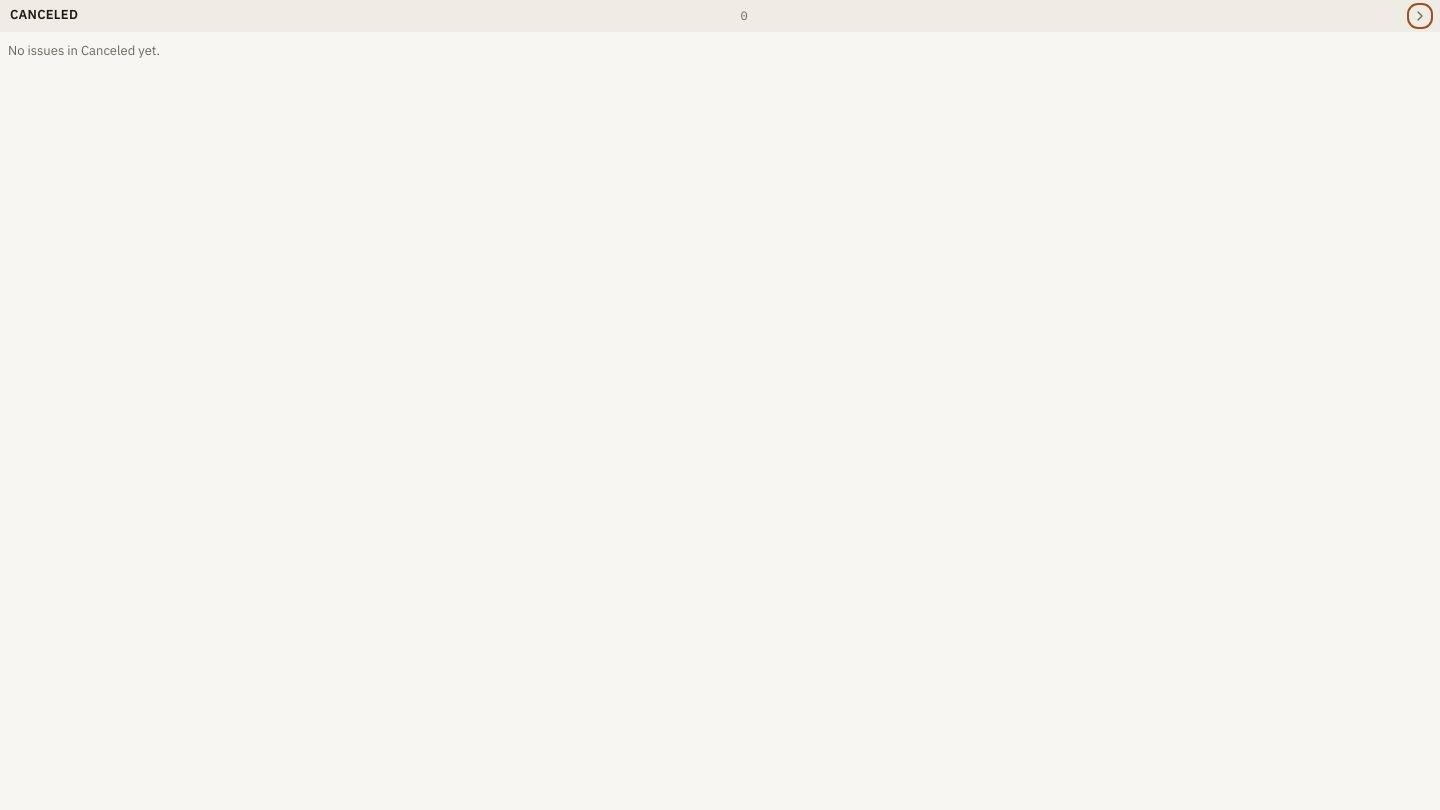
Scenario: keeps focus on the native column toggle when collapsing and expanding (INV-2117)
Click the button named "Collapse Canceled column".
click(1420, 16)  # box [1410,6,1430,26]
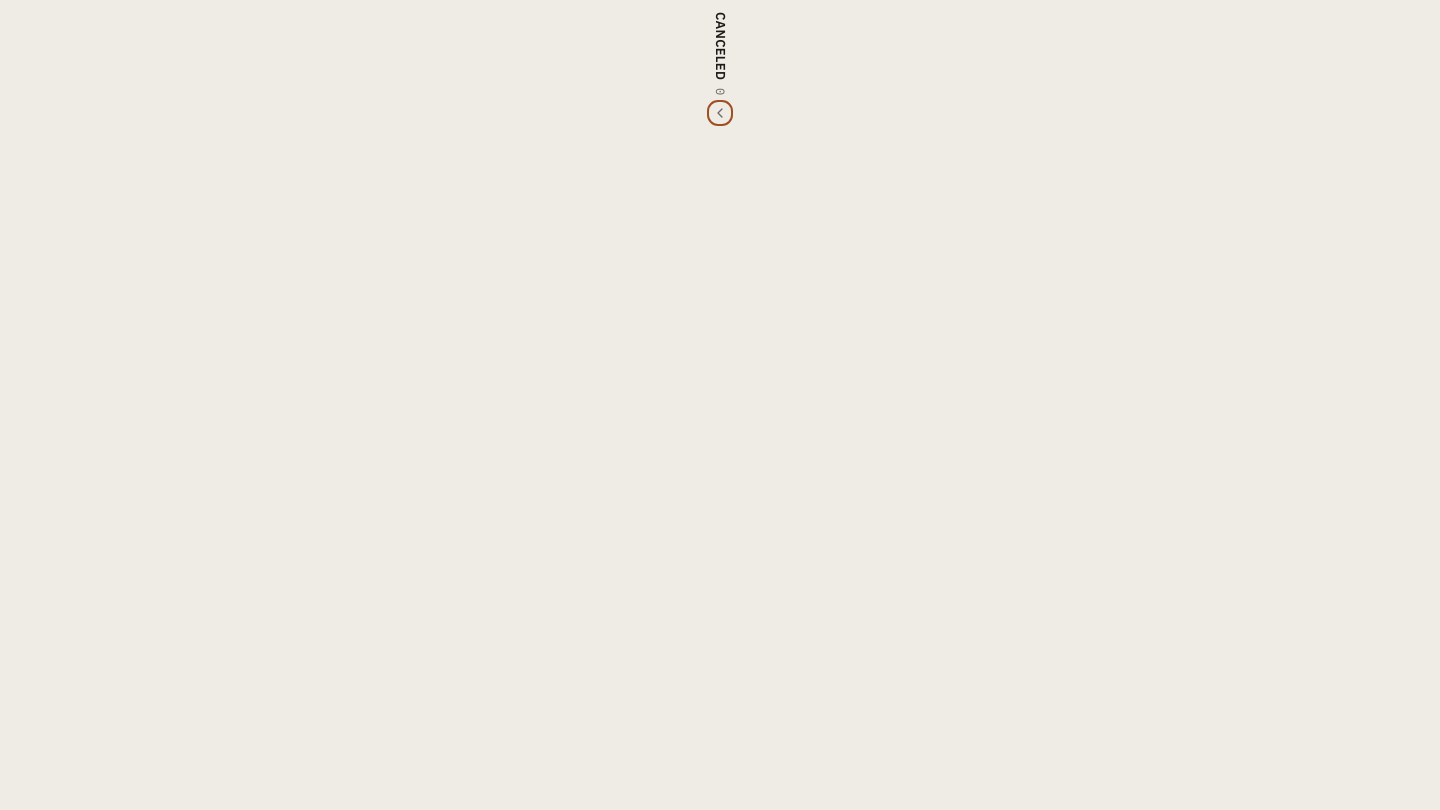
Expected: the button named "Expand Canceled column" is collapsed
Expected: the text "No issues in Canceled yet." is gone
Click the button named "Expand Canceled column".
click(720, 113)  # box [710,103,730,123]
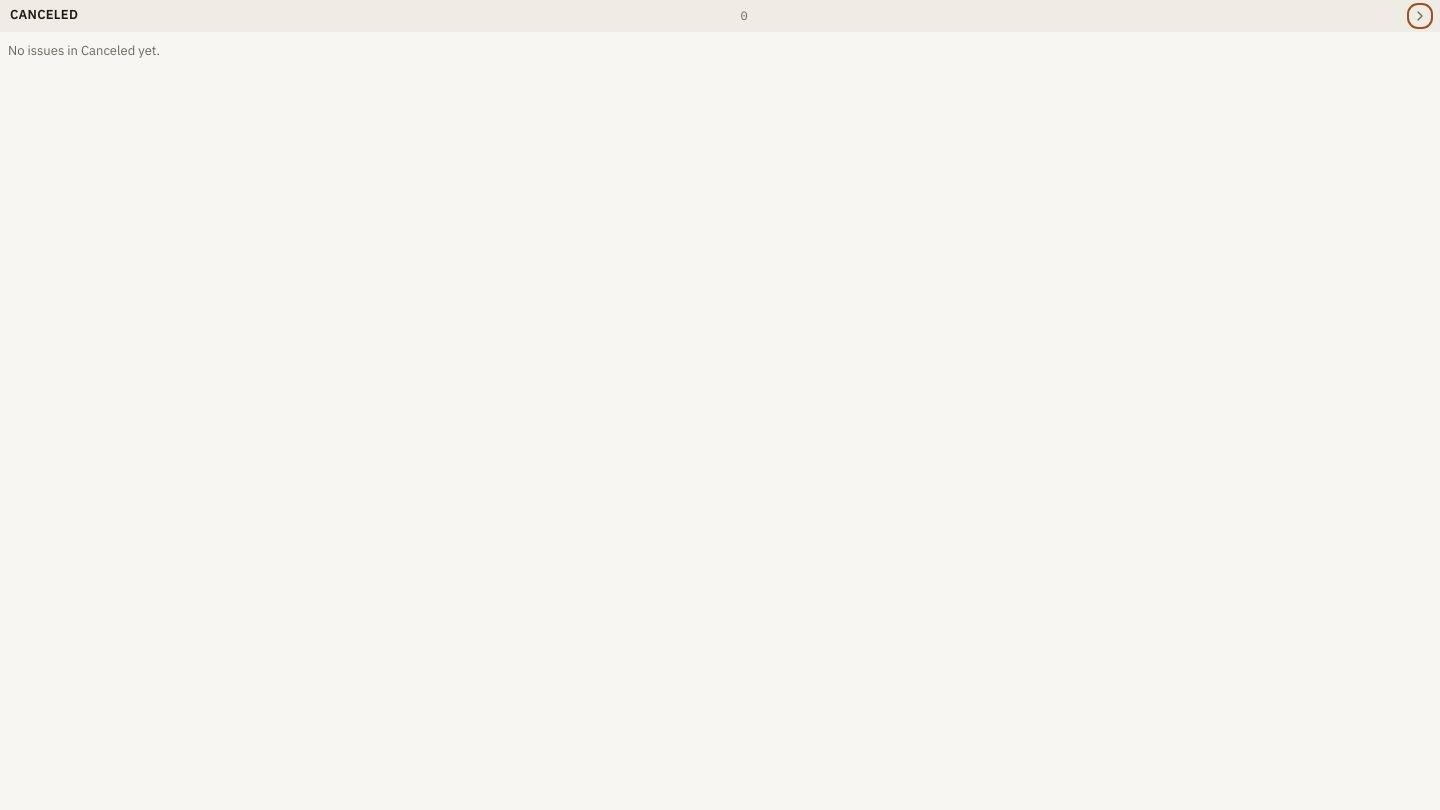
Expected: the button named "Collapse Canceled column" is expanded, [1410,6,1430,26]
Expected: the text "No issues in Canceled yet." is shown, [8,42,160,59]
